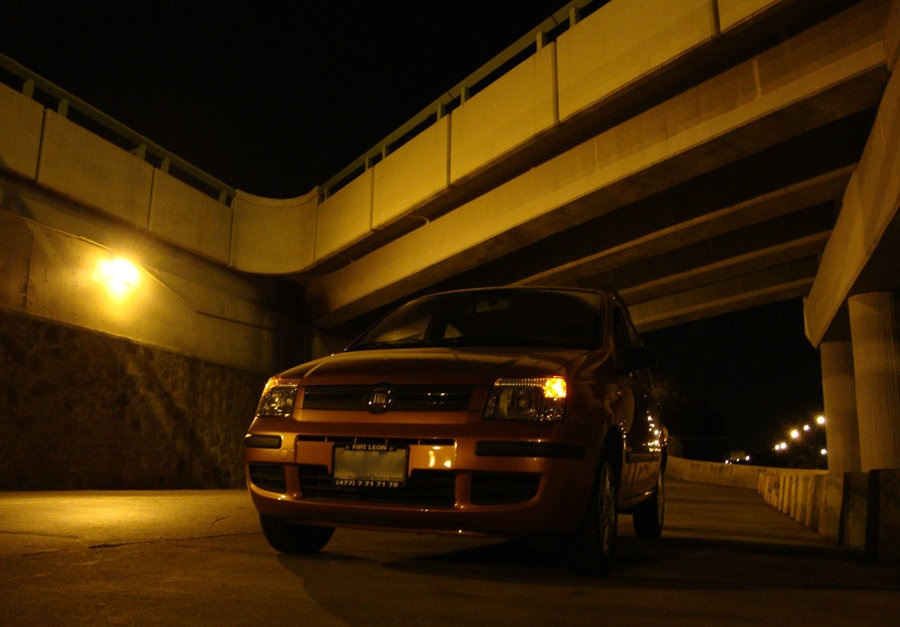car: (237, 269, 679, 577)
